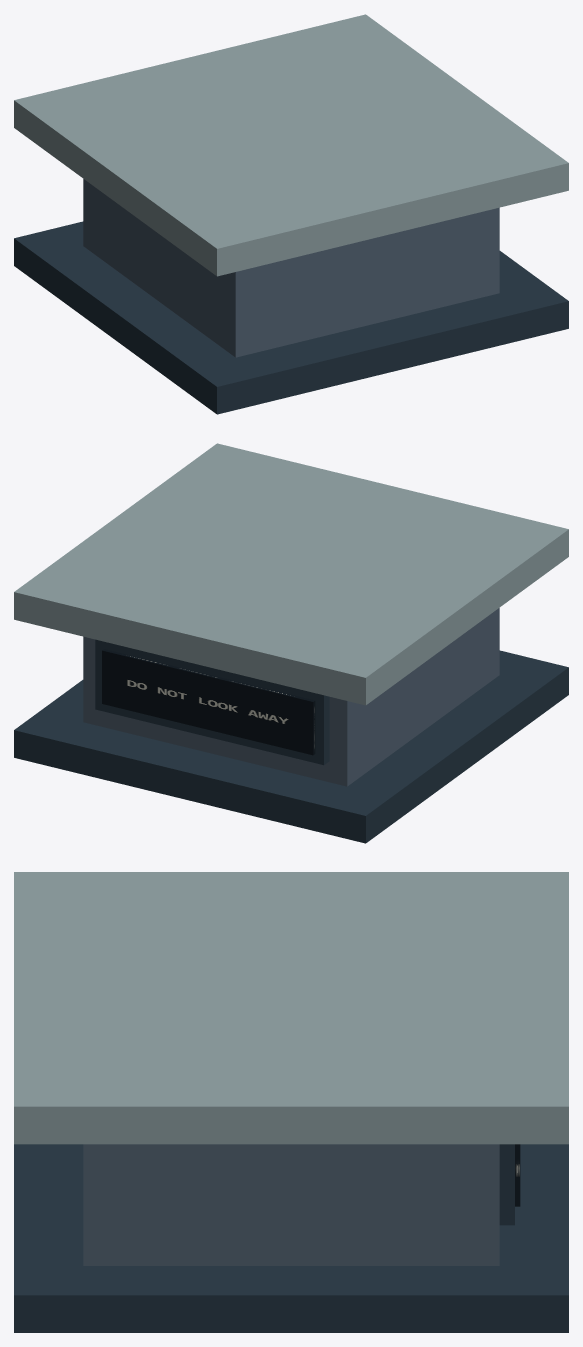
The model's file is horror_pedestal.obj.
The picture shows the model from 3 angles, top to bottom: view 1: azimuth 30°, elevation 25°; view 2: azimuth 150°, elevation 25°; view 3: azimuth 270°, elevation 25°; orthographic projection. The views are drawn at different scales.
Visible parts, largest first — view 1: Cap, Column, Foot; view 2: Cap, Foot, Column, WarningFace, WarningFrame; view 3: Cap, Foot, Column, WarningFrame.
Boxes of the visible parts, left/top/right/bottom form: Cap: left=14, top=14, right=568, bottom=276; Column: left=83, top=179, right=499, bottom=357; Foot: left=14, top=221, right=568, bottom=414; Cap: left=14, top=443, right=568, bottom=705; Foot: left=14, top=650, right=568, bottom=843; Column: left=83, top=608, right=499, bottom=786; WarningFace: left=102, top=649, right=315, bottom=755; WarningFrame: left=95, top=639, right=329, bottom=765; Cap: left=14, top=872, right=568, bottom=1144; Foot: left=14, top=1144, right=568, bottom=1332; Column: left=83, top=1144, right=499, bottom=1265; WarningFrame: left=499, top=1144, right=514, bottom=1225.
Size of the model in its own units: 4 by 1.8 by 4.
5 materials, 1 textured.
